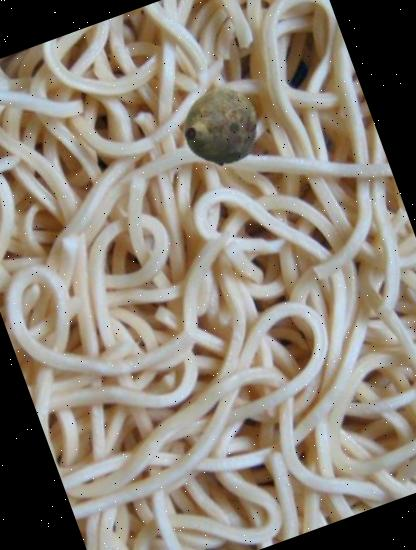Beetroot: (155, 69, 273, 187)
